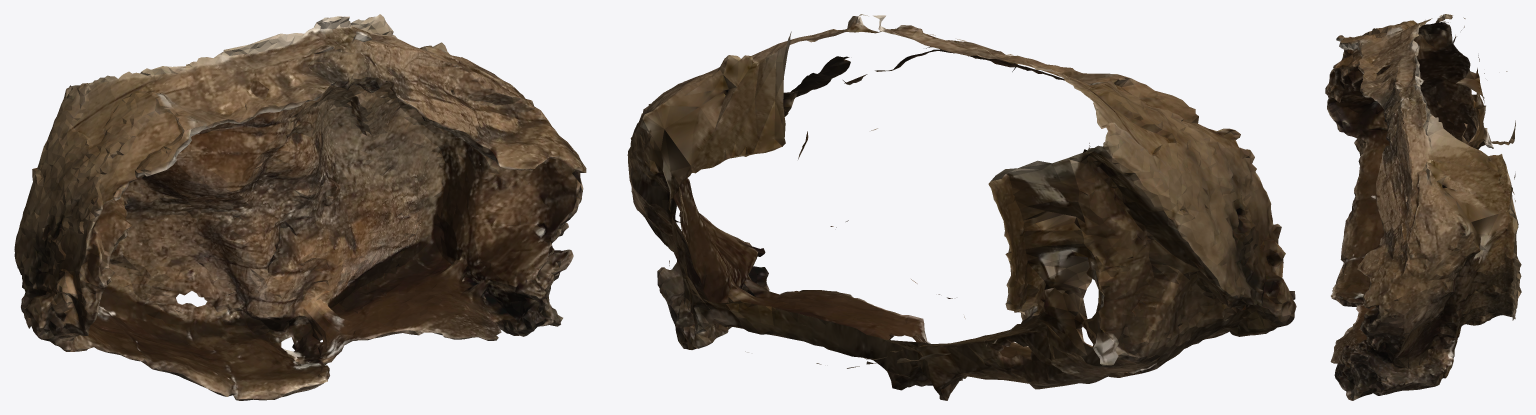
File: log_container.glb
3 views of the same model, side by side, from view 1: azimuth 30°, elevation 25°; view 2: azimuth 150°, elevation 25°; view 3: azimuth 270°, elevation 25° (orthographic). The views are drawn at different scales.
Parts seen in each view (by area): view 1: default; view 2: default; view 3: default.
Boxes of the visible parts, x1=… form: default: x1=14, y1=14, x2=586, y2=400; default: x1=627, y1=14, x2=1296, y2=400; default: x1=1325, y1=14, x2=1521, y2=400.
Size of the model in its own units: 12.95 by 7.24 by 5.03.
1 material, 1 textured.
